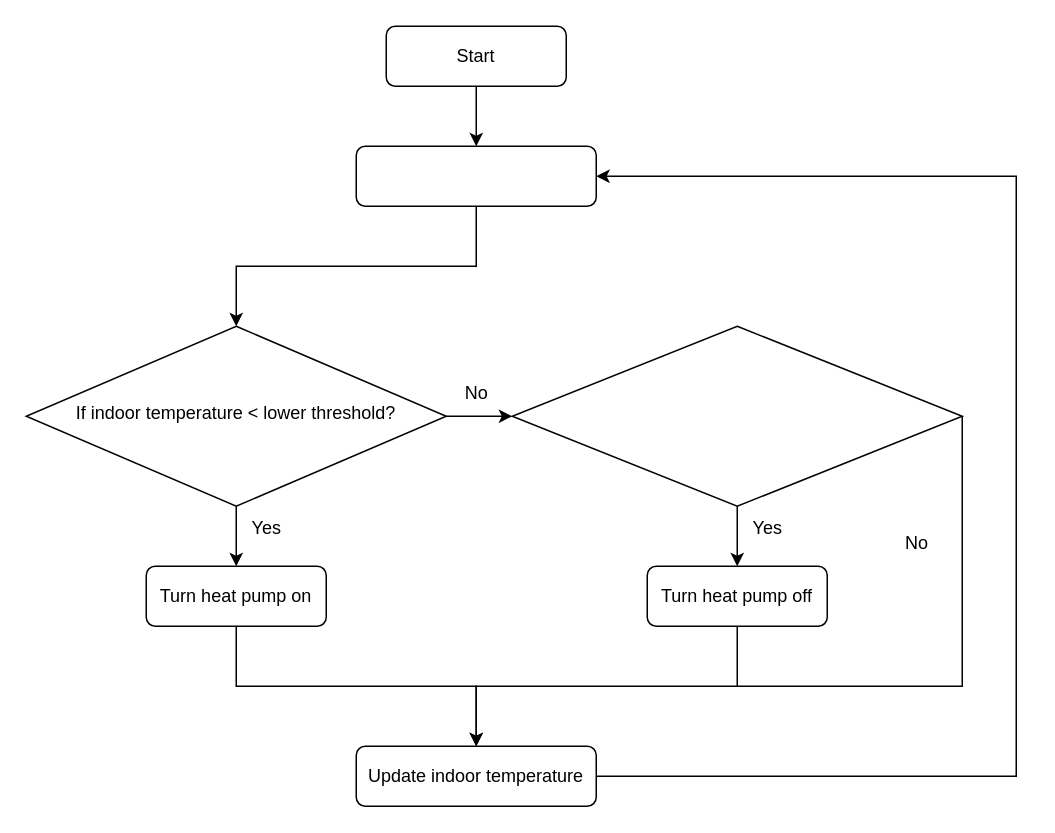
This 1055x833 diagram has some shape labels left out. The centre of each missing label's shape, as x and y in pixels:
"Check indoor temperature" goes at [475,175].
"If indoor temperature > upper threshold?" goes at [736,415].
